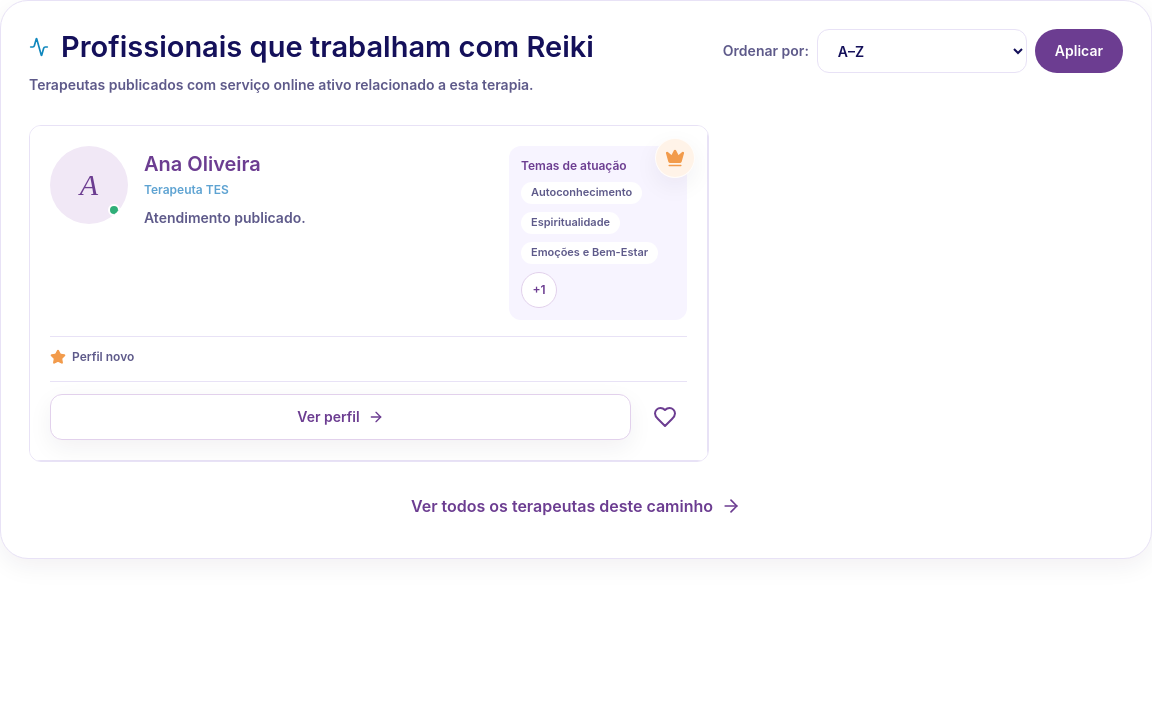
Test: RelatedTherapists › mostra até três temas publicados do guia e revela os demais
Expected: the text "Temas de atuação" is shown, [521, 158, 627, 173]
Expected: the text "Autoconhecimento" is shown, [521, 182, 642, 204]
Hover over the button named "Ver mais 1 tema de Ana Oliveira": (539, 290) [521, 272, 557, 308]
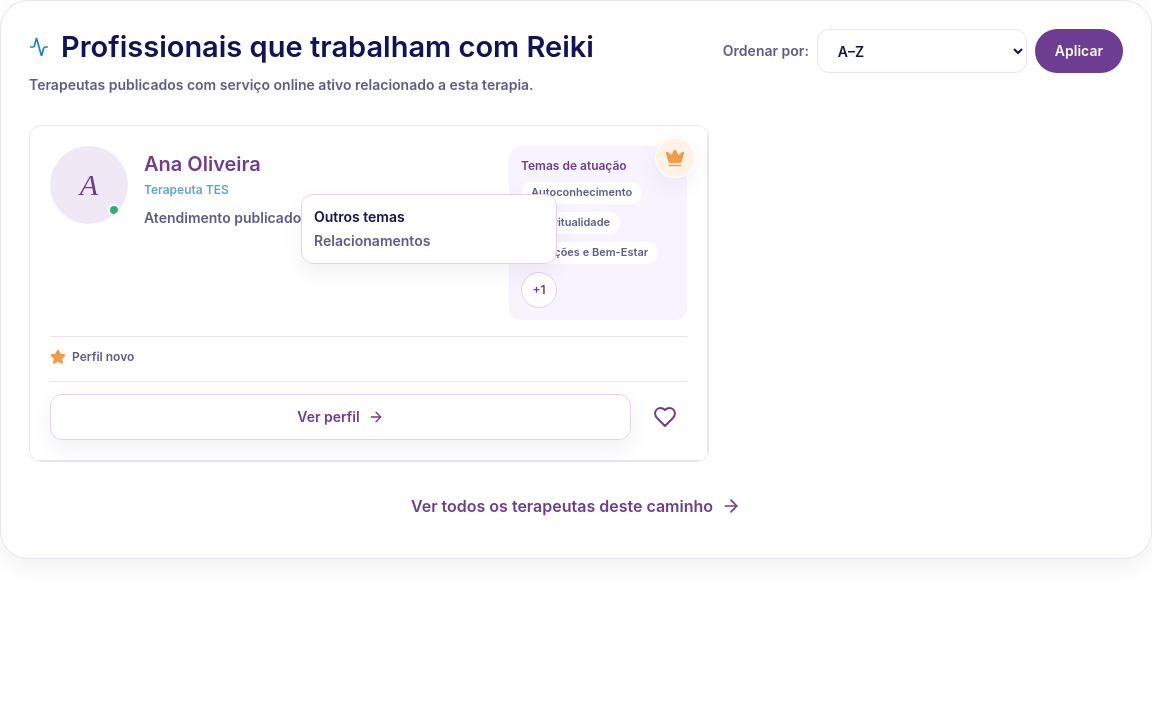
Expected: the tooltip shows "Relacionamentos", [314, 232, 430, 248]
